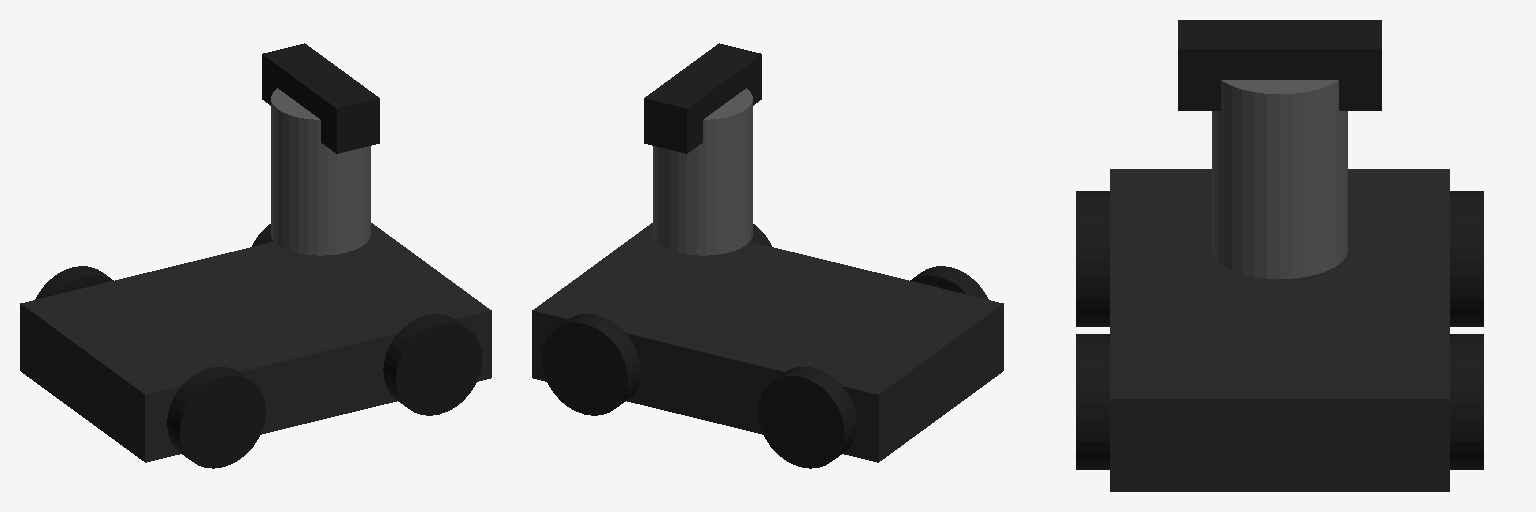
robot.urdf — skyhunter_pro_v3:
<?xml version="1.0" ?>
<robot name="skyhunter_pro_v3">

  <!-- MATERIAL DEFINITIONS -->
  <material name="dark_grey"><color rgba="0.2 0.2 0.2 1.0"/></material>
  <material name="light_grey"><color rgba="0.4 0.4 0.4 1.0"/></material>
  <material name="black"><color rgba="0.15 0.15 0.15 1.0"/></material>

  <!-- BASE LINK (Center of the robot, on the ground) -->
  <link name="base_link"/>

  <!-- CHASSIS LINK (The main body of the robot) -->
  <link name="chassis_link">
    <visual>
      <!-- CHANGED: Reduced height from 0.2 to 0.15 to create clearance -->
      <geometry><box size="0.8 0.5 0.15"/></geometry>
      <material name="dark_grey"/>
    </visual>
    <collision>
      <!-- CHANGED: Same here -->
      <geometry><box size="0.8 0.5 0.15"/></geometry>
    </collision>
    <inertial>
      <mass value="25.0"/>
      <origin xyz="0 0 0" rpy="0 0 0"/>
      <inertia ixx="1.0" ixy="0.0" ixz="0.0" iyy="2.5" iyz="0.0" izz="2.5"/>
    </inertial>
  </link>
  <joint name="chassis_joint" type="fixed">
    <parent link="base_link"/>
    <child link="chassis_link"/>
    <origin xyz="0 0 0.1" rpy="0 0 0"/>
  </joint>

  <!-- ====================== WHEELS ====================== -->
  <link name="left_wheel_front">
    <visual><origin rpy="1.5707 0 0"/><geometry><cylinder radius="0.1" length="0.05"/></geometry><material name="black"/></visual>
    <collision><origin rpy="1.5707 0 0"/><geometry><cylinder radius="0.1" length="0.05"/></geometry></collision>
    <inertial><mass value="2"/><inertia ixx="0.1" ixy="0" ixz="0" iyy="0.1" iyz="0" izz="0.1"/></inertial>
  </link>
  <joint name="left_wheel_front_joint" type="continuous"><parent link="chassis_link"/><child link="left_wheel_front"/><origin xyz="0.25 0.275 0"/><axis xyz="0 1 0"/></joint>

  <link name="left_wheel_rear">
    <visual><origin rpy="1.5707 0 0"/><geometry><cylinder radius="0.1" length="0.05"/></geometry><material name="black"/></visual>
    <collision><origin rpy="1.5707 0 0"/><geometry><cylinder radius="0.1" length="0.05"/></geometry></collision>
    <inertial><mass value="2"/><inertia ixx="0.1" ixy="0" ixz="0" iyy="0.1" iyz="0" izz="0.1"/></inertial>
  </link>
  <joint name="left_wheel_rear_joint" type="continuous"><parent link="chassis_link"/><child link="left_wheel_rear"/><origin xyz="-0.25 0.275 0"/><axis xyz="0 1 0"/></joint>

  <link name="right_wheel_front">
    <visual><origin rpy="1.5707 0 0"/><geometry><cylinder radius="0.1" length="0.05"/></geometry><material name="black"/></visual>
    <collision><origin rpy="1.5707 0 0"/><geometry><cylinder radius="0.1" length="0.05"/></geometry></collision>
    <inertial><mass value="2"/><inertia ixx="0.1" ixy="0" ixz="0" iyy="0.1" iyz="0" izz="0.1"/></inertial>
  </link>
  <joint name="right_wheel_front_joint" type="continuous"><parent link="chassis_link"/><child link="right_wheel_front"/><origin xyz="0.25 -0.275 0"/><axis xyz="0 1 0"/></joint>

  <link name="right_wheel_rear">
    <visual><origin rpy="1.5707 0 0"/><geometry><cylinder radius="0.1" length="0.05"/></geometry><material name="black"/></visual>
    <collision><origin rpy="1.5707 0 0"/><geometry><cylinder radius="0.1" length="0.05"/></geometry></collision>
    <inertial><mass value="2"/><inertia ixx="0.1" ixy="0" ixz="0" iyy="0.1" iyz="0" izz="0.1"/></inertial>
  </link>
  <joint name="right_wheel_rear_joint" type="continuous"><parent link="chassis_link"/><child link="right_wheel_rear"/><origin xyz="-0.25 -0.275 0"/><axis xyz="0 1 0"/></joint>
  
  <!-- ====================== SENSOR MAST/TURRET ====================== -->
  <link name="turret_base_link">
    <visual><geometry><cylinder radius="0.1" length="0.3"/></geometry><origin xyz="0 0 0.15"/><material name="light_grey"/></visual>
    <inertial><mass value="1.0"/><inertia ixx="0.1" ixy="0" ixz="0" iyy="0.1" iyz="0" izz="0.1"/></inertial>
  </link>
  <joint name="turret_pan_joint" type="revolute"><parent link="chassis_link"/><child link="turret_base_link"/><origin xyz="0.15 0 0.2"/><axis xyz="0 0 1"/><limit lower="-3.14" upper="3.14" effort="10" velocity="1.0"/></joint>

  <link name="sensor_head_link">
    <visual><geometry><box size="0.1 0.3 0.1"/></geometry><material name="black"/></visual>
    <inertial><mass value="1.0"/><inertia ixx="0.1" ixy="0" ixz="0" iyy="0.1" iyz="0" izz="0.1"/></inertial>
  </link>
  <joint name="turret_tilt_joint" type="revolute"><parent link="turret_base_link"/><child link="sensor_head_link"/><origin xyz="0 0 0.3"/><axis xyz="0 1 0"/><limit lower="-0.785" upper="0.785" effort="10" velocity="1.0"/></joint>

  <link name="lidar_link"/>
  <joint name="lidar_joint" type="fixed"><parent link="sensor_head_link"/><child link="lidar_link"/><origin xyz="0 0 0.1"/></joint>
  <link name="imu_link"/>
  <joint name="imu_joint" type="fixed"><parent link="sensor_head_link"/><child link="imu_link"/><origin xyz="0 0 0.05"/></joint>

  <!-- ====================== GAZEBO PLUGINS ====================== -->

  <!-- DIFFERENTIAL DRIVE (for physics, WILL NOT MOVE unless commanded) -->
  <!-- DIFFERENTIAL DRIVE PLUGIN (FOR PHYSICS) -->
  <gazebo>
    <plugin name="differential_drive_controller" filename="libgazebo_ros_diff_drive.so">
      <!-- Wheel Joints -->
      <left_joint>left_wheel_rear_joint</left_joint>
      <right_joint>right_wheel_rear_joint</right_joint>

      <!-- Kinematics -->
      <wheel_separation>0.55</wheel_separation>
      <wheel_diameter>0.2</wheel_diameter>

      <!-- Limits -->
      <max_wheel_torque>200.0</max_wheel_torque>
      <max_wheel_acceleration>20.0</max_wheel_acceleration>

      <!-- Topics -->
      <command_topic>cmd_vel</command_topic>
      <odometry_topic>odom</odometry_topic>

      <!-- Frames -->
      <odometry_frame>odom</odometry_frame>
      <robot_base_frame>base_link</robot_base_frame>
      
      <publish_odom>true</publish_odom>
      <publish_odom_tf>true</publish_odom_tf>
      <update_rate>100</update_rate>
    </plugin>
  </gazebo>
  
  <!-- SENSOR PLUGINS -->
  <gazebo reference="sensor_head_link">
    <!-- CORRECTED CAMERA PLACEMENT -->
    <sensor name="camera_rgb" type="camera">
      <pose>0.05 0.1 0 0 0 0</pose> <!-- Front, Right side of head -->
      <visualize>false</visualize>
      <update_rate>30.0</update_rate>
      <camera>
        <horizontal_fov>1.396</horizontal_fov>
        <image><width>800</width><height>600</height></image>
        <clip><near>0.1</near><far>100</far></clip>
      </camera>
      <plugin name="camera_rgb_controller" filename="libgazebo_ros_camera.so">
        <ros><remapping>image_raw:=camera/rgb/image_raw</remapping></ros>
      </plugin>
    </sensor>

    <sensor name="camera_ir" type="camera">
      <pose>0.05 -0.1 0 0 0 0</pose> <!-- Front, Left side of head -->
      <visualize>false</visualize>
      <update_rate>30.0</update_rate>
      <camera>
        <horizontal_fov>1.0</horizontal_fov>
        <image><width>640</width><height>480</height><format>L8</format></image>
        <clip><near>0.1</near><far>100</far></clip>
      </camera>
      <plugin name="camera_ir_controller" filename="libgazebo_ros_camera.so">
        <ros><remapping>image_raw:=camera/ir/image_raw</remapping></ros>
      </plugin>
    </sensor>
  </gazebo>

  <gazebo>
  <plugin name="joint_state_publisher" filename="libgazebo_ros_joint_state_publisher.so">
    <ros>
        <remapping>~/out:=joint_states</remapping>
    </ros>
    <update_rate>30</update_rate>
    
    <!-- List ALL non-fixed joints here -->
    <joint_name>left_wheel_front_joint</joint_name>
    <joint_name>left_wheel_rear_joint</joint_name>
    <joint_name>right_wheel_front_joint</joint_name>
    <joint_name>right_wheel_rear_joint</joint_name>
    <joint_name>turret_pan_joint</joint_name>
    <joint_name>turret_tilt_joint</joint_name>
    </plugin>
  </gazebo>
  
  <gazebo reference="lidar_link">
        <sensor name="lidar_sensor" type="ray">
          <always_on>true</always_on>
          <visualize>false</visualize>
          <update_rate>10</update_rate>
          <ray>
            <scan>
              <horizontal>
                <samples>360</samples>
                <resolution>1</resolution>
                <min_angle>-3.14</min_angle>
                <max_angle>3.14</max_angle>
              </horizontal>
              <vertical>
                <samples>16</samples>
                <resolution>1</resolution>
                <min_angle>-0.2617</min_angle> <!-- -15 degrees -->
                <max_angle>0.2617</max_angle>  <!-- +15 degrees -->
              </vertical>
            </scan>
            <range>
              <min>0.1</min>
              <max>30.0</max>
              <resolution>0.01</resolution>
            </range>
            <noise>
              <type>gaussian</type>
              <mean>0.0</mean>
              <stddev>0.01</stddev>
            </noise>
          </ray>
          <plugin name="lidar_plugin" filename="libgazebo_ros_ray_sensor.so">
            <ros><remapping>~/out:=/lidar/points</remapping></ros>
            <output_type>sensor_msgs/PointCloud2</output_type>
            <frame_name>lidar_link</frame_name>
          </plugin>
        </sensor>
      </gazebo>

  <gazebo reference="imu_link">
    <sensor name="imu_sensor" type="imu">
      <always_on>true</always_on>
      <update_rate>100</update_rate>
      <plugin name="imu_plugin" filename="libgazebo_ros_imu_sensor.so">
        <ros><remapping>~/out:=imu/data</remapping></ros>
      </plugin>
    </sensor>
  </gazebo>
  
  <!-- GPS is usually on the main chassis, not the moving head -->
  <gazebo reference="chassis_link">
    <sensor name="gps_sensor" type="gps">
      <update_rate>10</update_rate>
      <plugin name="gps_plugin" filename="libgazebo_ros_gps_sensor.so">
        <ros><remapping>~/out:=gps/fix</remapping></ros>
      </plugin>
    </sensor>
  </gazebo>

  <gazebo reference="chassis_link">
    <material>Gazebo/DarkGrey</material>
  </gazebo>

</robot>

--- Render facts (derived) ---
Views: 3 orthographic renders of the robot side by side, from view 1: azimuth 30°, elevation 25°; view 2: azimuth 150°, elevation 25°; view 3: azimuth 270°, elevation 25°.
Model skyhunter_pro_v3 with 10 links and 9 joints (2 revolute, 4 continuous, 3 fixed), rooted at base_link, posed all joints at 0.
Visible links, largest first — view 1: chassis_link, turret_base_link, right_wheel_rear, right_wheel_front, sensor_head_link, left_wheel_rear; view 2: chassis_link, turret_base_link, left_wheel_rear, left_wheel_front, sensor_head_link, right_wheel_rear; view 3: chassis_link, turret_base_link, sensor_head_link, left_wheel_front, left_wheel_rear, right_wheel_front, right_wheel_rear.
Link boxes in pixels (x1,y1,x2,y2): chassis_link: [20, 223, 491, 462]; turret_base_link: [271, 88, 370, 255]; right_wheel_rear: [167, 367, 265, 468]; right_wheel_front: [383, 314, 481, 415]; sensor_head_link: [262, 43, 379, 153]; left_wheel_rear: [35, 266, 113, 299]; chassis_link: [532, 223, 1003, 462]; turret_base_link: [653, 88, 752, 255]; left_wheel_rear: [758, 367, 856, 468]; left_wheel_front: [542, 314, 640, 415]; sensor_head_link: [644, 43, 761, 153]; right_wheel_rear: [910, 266, 988, 299]; chassis_link: [1110, 169, 1449, 491]; turret_base_link: [1212, 80, 1347, 278]; sensor_head_link: [1178, 20, 1381, 110]; left_wheel_front: [1450, 334, 1483, 469]; left_wheel_rear: [1450, 191, 1483, 326]; right_wheel_front: [1076, 334, 1109, 469]; right_wheel_rear: [1076, 191, 1109, 326].
Bounding box of the posed robot: 0.8 × 0.6 × 0.65 m (x, y, z).
Geometry: primitives only (box / cylinder / sphere), no mesh files.
